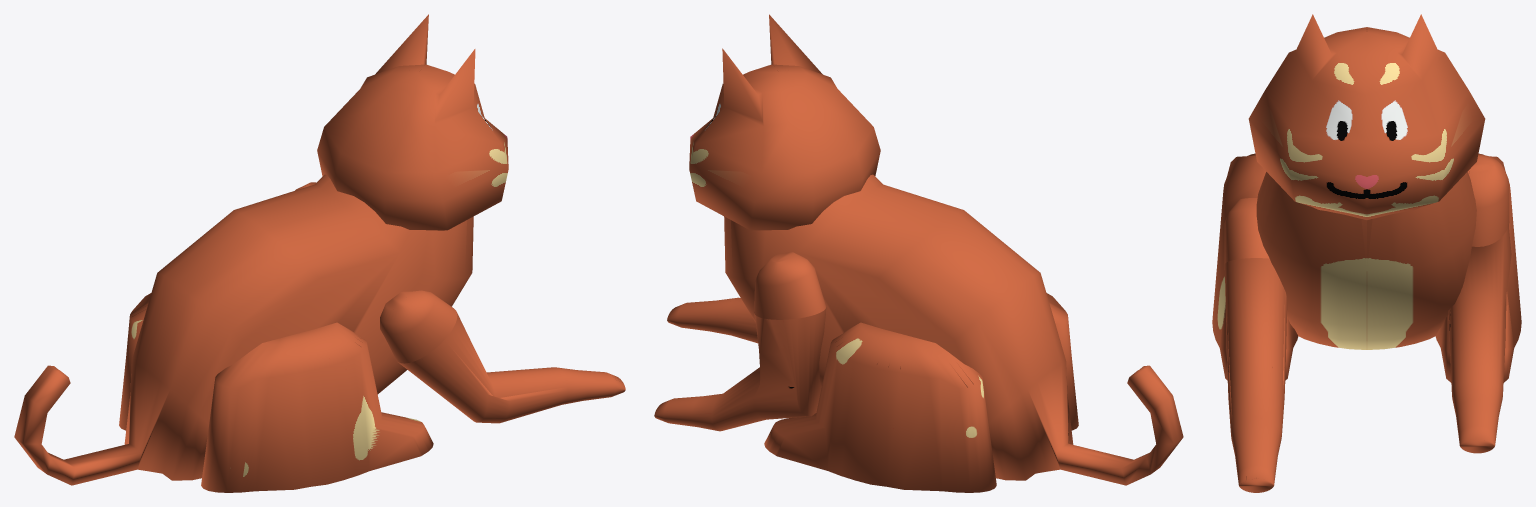
The model's file is catMegaKart(22-03-12).fbx.
3 renders of one model, left to right at view 1: azimuth 30°, elevation 25°; view 2: azimuth 150°, elevation 25°; view 3: azimuth 270°, elevation 25°, orthographic. The views are drawn at different scales.
Visible parts, largest first — view 1: middle.001, leg1.002, head.001, arm1.003, leg1.004; view 2: middle.001, leg1.004, head.001, arm2.001, arm1.003, leg1.002; view 3: head.001, middle.001, arm1.003, arm2.001, leg1.002, leg1.004.
Boxes of the visible parts, <box> form: middle.001: <box>14,174,473,485</box>; leg1.002: <box>201,322,433,492</box>; head.001: <box>317,14,508,230</box>; arm1.003: <box>380,290,625,423</box>; leg1.004: <box>119,293,151,430</box>; middle.001: <box>724,174,1183,485</box>; leg1.004: <box>764,322,996,492</box>; head.001: <box>689,14,880,230</box>; arm2.001: <box>654,252,826,431</box>; arm1.003: <box>667,297,757,343</box>; leg1.002: <box>1046,293,1078,430</box>; head.001: <box>1248,14,1485,219</box>; middle.001: <box>1256,172,1476,349</box>; arm1.003: <box>1224,198,1287,492</box>; arm2.001: <box>1448,154,1511,453</box>; leg1.002: <box>1212,153,1298,380</box>; leg1.004: <box>1435,153,1521,382</box>.
Bounding box in the file's own units: 672 × 421 × 280.
2 materials, 2 textured.
